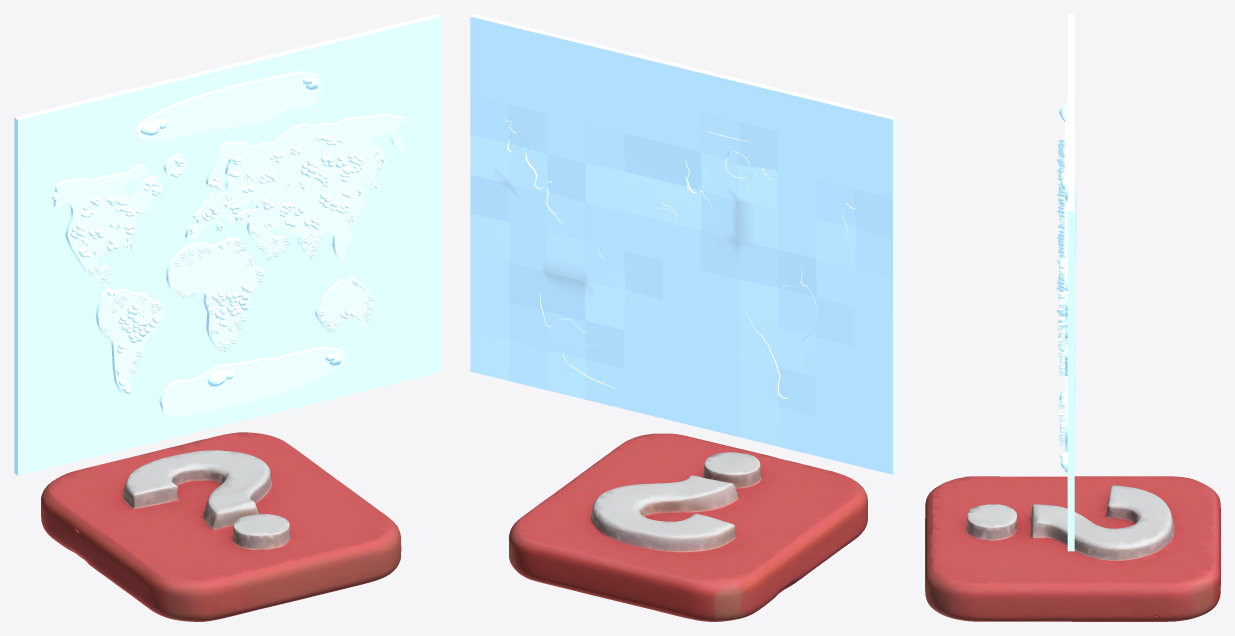
The model's file is map.glb.
3 views of the same model, side by side, from view 1: azimuth 30°, elevation 25°; view 2: azimuth 150°, elevation 25°; view 3: azimuth 270°, elevation 25° (orthographic). The views are drawn at different scales.
Parts seen in each view (by area): view 1: final_map, final_mark; view 2: final_map, final_mark; view 3: final_mark, final_map.
Boxes of the visible parts, bbox=[...] form: final_map: bbox=[14, 14, 441, 475]; final_mark: bbox=[41, 432, 401, 621]; final_map: bbox=[470, 14, 896, 474]; final_mark: bbox=[508, 433, 867, 621]; final_mark: bbox=[925, 476, 1220, 621]; final_map: bbox=[1059, 14, 1076, 551].
Size of the model in its own units: 3.16 by 3.42 by 2.
3 materials, 1 textured.
